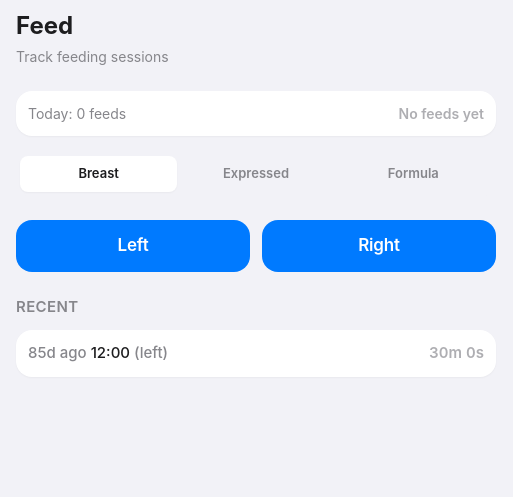
Scenario: Feed › switches to formula tab and shows log button
Click the button "Formula" at point(413, 174), box [335,156,492,192]
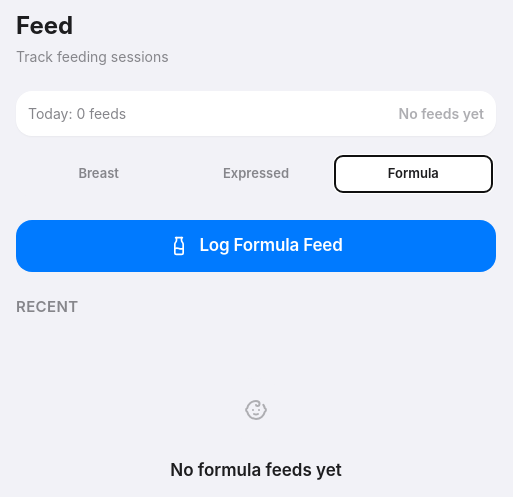
Expected: the button "Log Formula Feed" is shown, [16,220,496,272]
